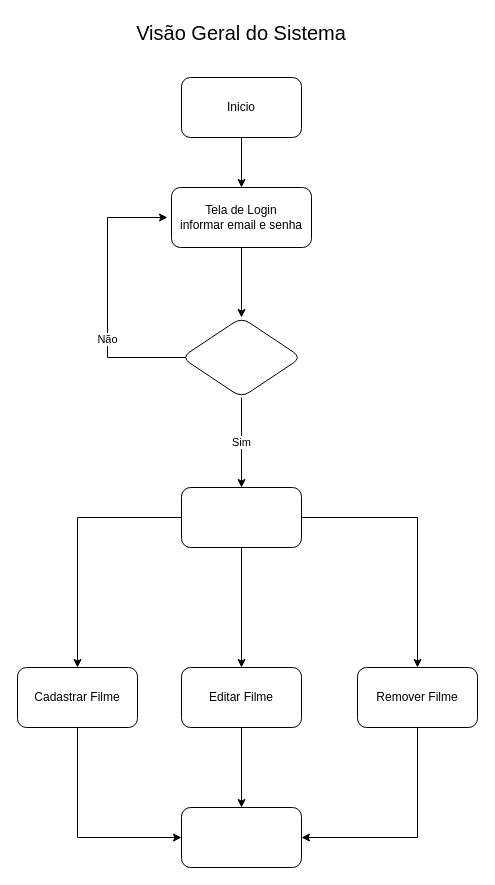
The diagram is 495 pixels wide and 885 high, and some of its shapes have lost their labels. The centre of each missing label's shape, as x and y in pixels:
"Atualiza a Lista de Filmes Galeria de Filmes" belongs at (241,837).
"Login válido?" belongs at (241,357).
"Tela Principal Galeria de Filmes" belongs at (241,517).
